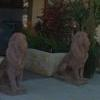Statue: (8, 25, 97, 87)
